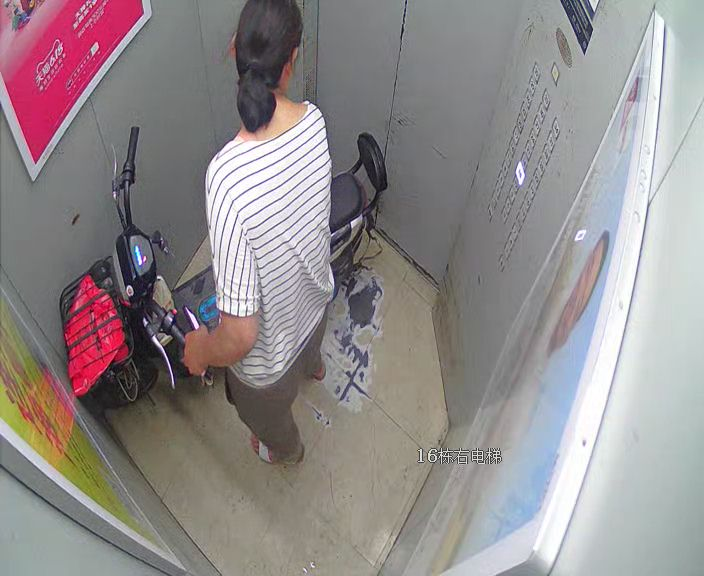Electric-bicycle: (59, 130, 384, 383)
